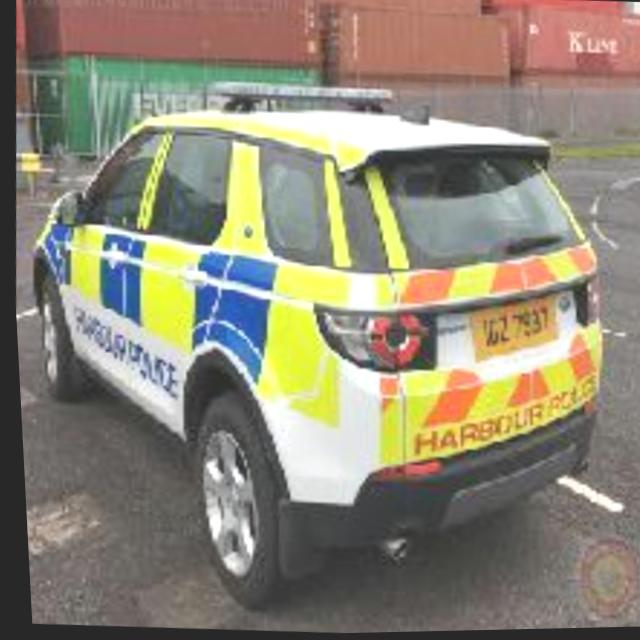emergency: (6, 70, 628, 569)
